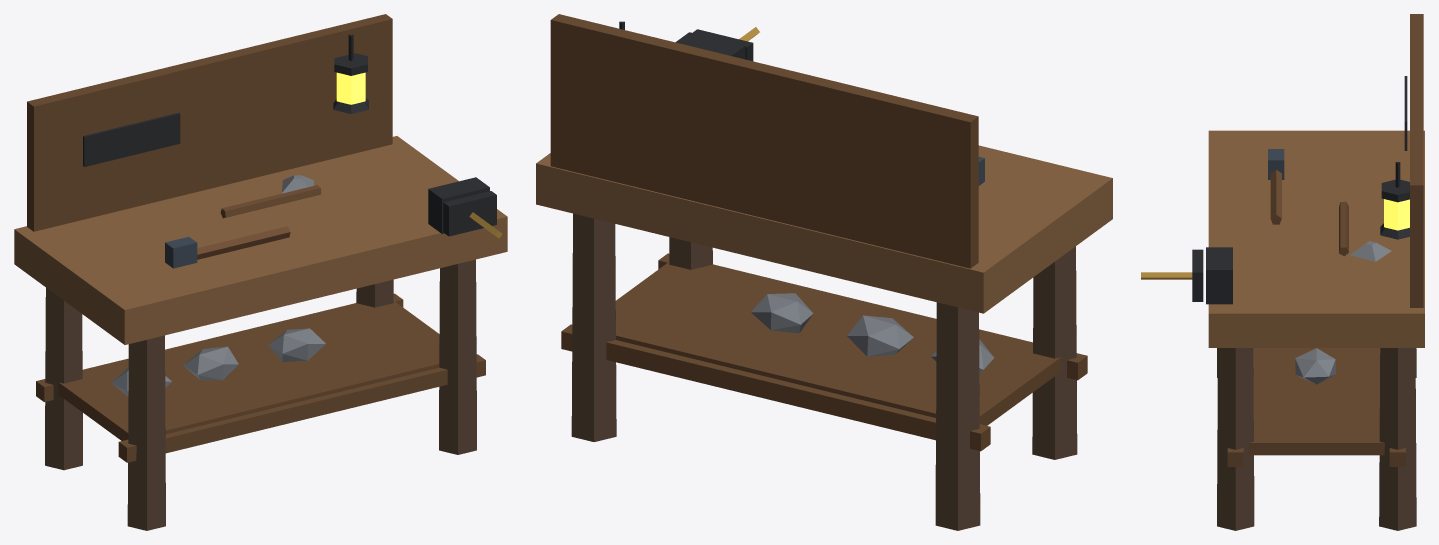
File: crafting_bench.glb
3 renders of one model, left to right at view 1: azimuth 30°, elevation 25°; view 2: azimuth 150°, elevation 25°; view 3: azimuth 270°, elevation 25°, orthographic. The views are drawn at different scales.
Parts seen in each view (by area): view 1: crafting_bench, tools, vise_jaw, ember_lamp, vise; view 2: crafting_bench, vise; view 3: crafting_bench, tools, ember_lamp, vise, vise_jaw.
Part boxes in pixels (<box>): crafting_bench: <box>14,14,507,530</box>; tools: <box>165,175,321,268</box>; vise_jaw: <box>443,191,502,238</box>; ember_lamp: <box>333,34,368,113</box>; vise: <box>428,177,489,233</box>; crafting_bench: <box>536,14,1112,530</box>; vise: <box>675,32,745,59</box>; crafting_bench: <box>1208,14,1424,530</box>; tools: <box>1268,149,1391,261</box>; ember_lamp: <box>1380,162,1409,239</box>; vise: <box>1206,247,1232,304</box>; vise_jaw: <box>1141,249,1203,301</box>.
Bounding box in the file's own units: 1.6 × 1.42 × 1.05.
